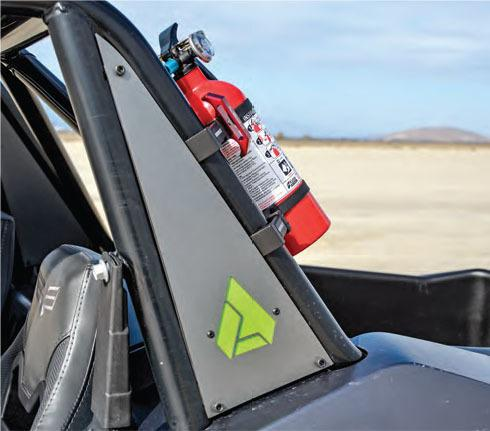Fire Extinguisher: (153, 11, 349, 261)
